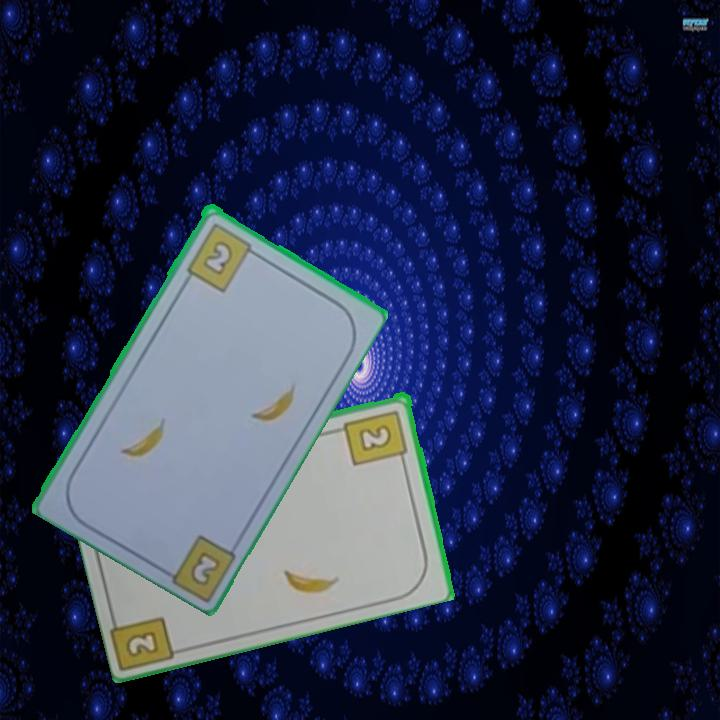2b: (183, 219, 261, 294), (341, 406, 411, 468), (122, 626, 162, 661), (189, 550, 220, 586)
